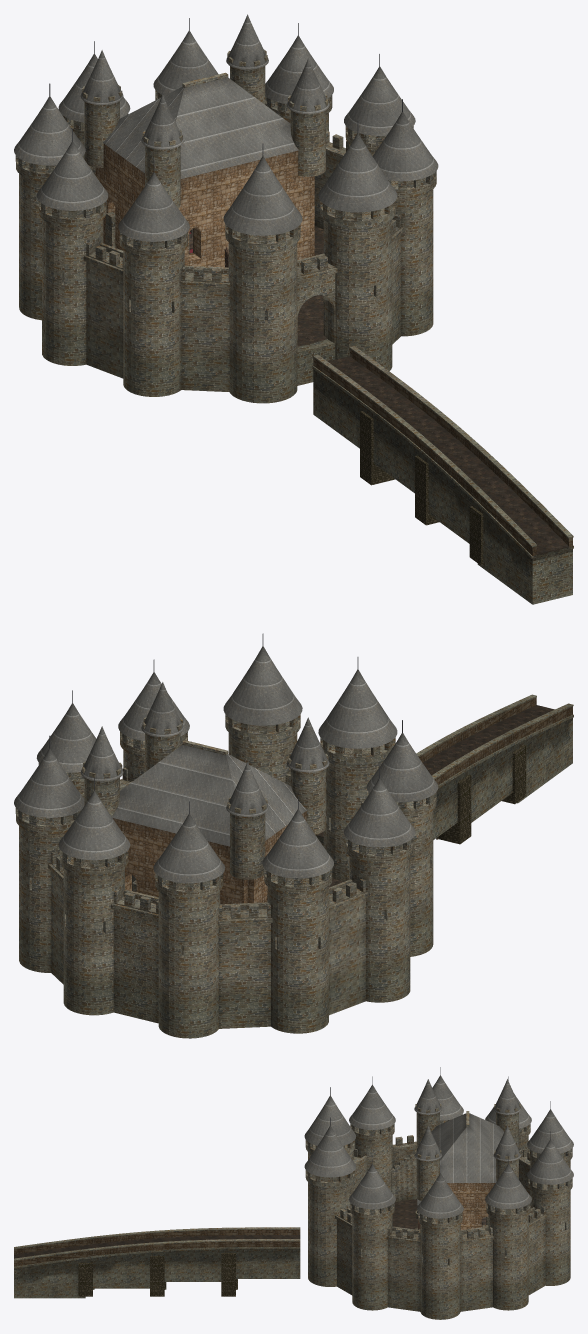
Rendered from castle.glb.
The picture shows the model from 3 angles, top to bottom: view 1: azimuth 30°, elevation 25°; view 2: azimuth 150°, elevation 25°; view 3: azimuth 270°, elevation 25°; orthographic projection. The views are drawn at different scales.
Parts seen in each view (by area): view 1: castle_stone, castle_slate, castle_blocks, castle_floor, castle_moss; view 2: castle_stone, castle_slate, castle_blocks, castle_moss, castle_floor; view 3: castle_stone, castle_slate, castle_blocks, castle_floor, castle_moss.
Part boxes in pixels (x1,y1,x2,y2): castle_stone: (15, 49, 573, 604); castle_slate: (14, 14, 438, 241); castle_blocks: (95, 143, 572, 555); castle_floor: (189, 226, 568, 554); castle_moss: (360, 411, 483, 565); castle_stone: (15, 694, 573, 1038); castle_slate: (14, 646, 438, 883); castle_blocks: (112, 697, 572, 904); castle_moss: (436, 745, 526, 844); castle_floor: (317, 705, 554, 887); castle_stone: (14, 1104, 572, 1319); castle_slate: (304, 1075, 573, 1218); castle_blocks: (14, 1183, 495, 1266); castle_floor: (14, 1199, 485, 1258); castle_moss: (78, 1253, 237, 1296).
Size of the model in its own units: 45.7 by 34.44 by 91.93.
Materials: 15 (9 with a texture image).
